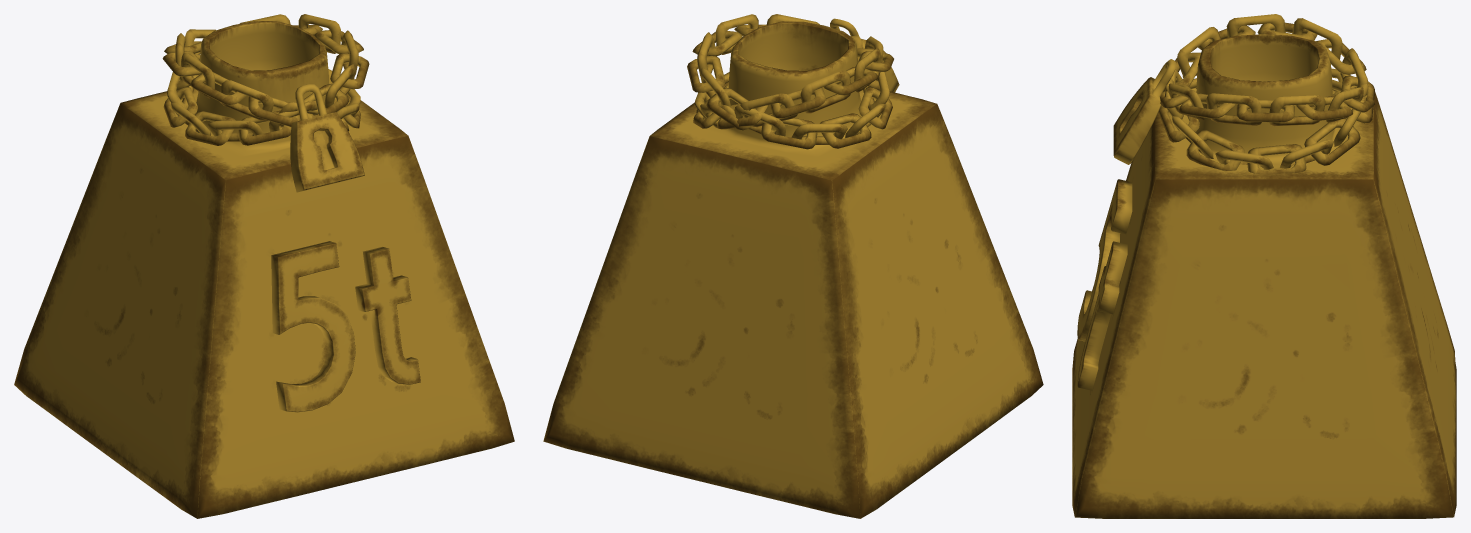
Rendered from power.fbx.
3 views of the same model, side by side, from view 1: azimuth 30°, elevation 25°; view 2: azimuth 150°, elevation 25°; view 3: azimuth 270°, elevation 25° (orthographic). The views are drawn at different scales.
Parts seen in each view (by area): view 1: power; view 2: power; view 3: power.
Boxes of the visible parts, x1=… form: power: x1=14, y1=14, x2=514, y2=518; power: x1=543, y1=14, x2=1043, y2=518; power: x1=1072, y1=14, x2=1456, y2=518.
Bounding box in the file's own units: 39.75 × 44.35 × 39.75.
